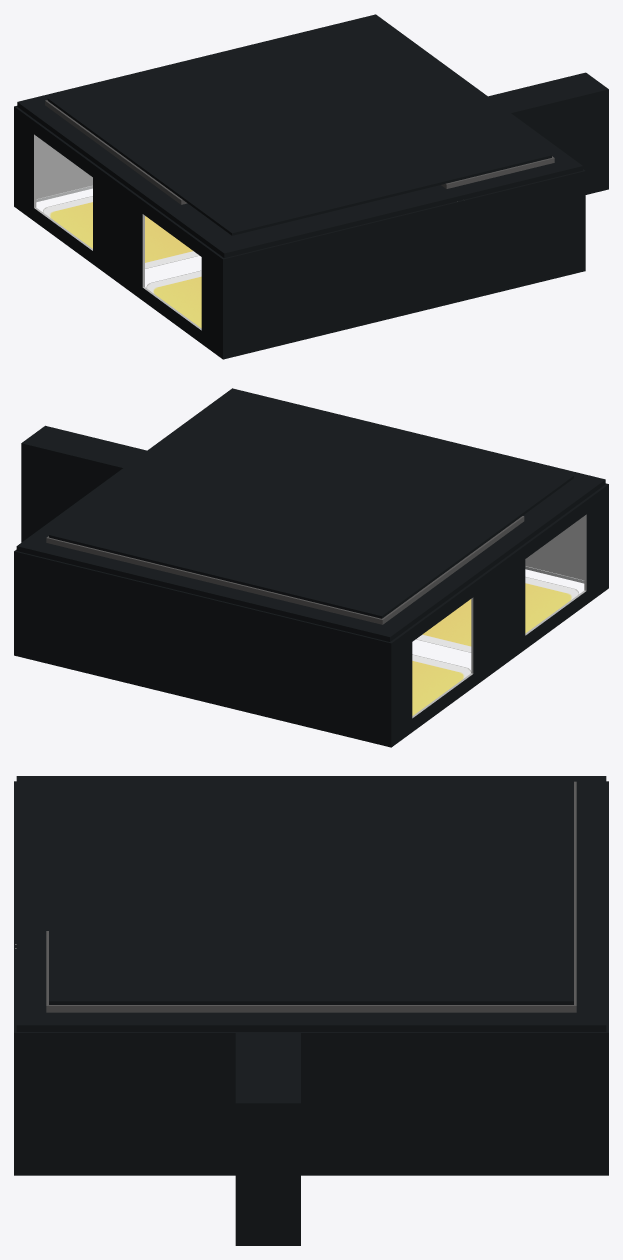
The model's file is M_livingroom01.FBX.
3 views of the same model, one above another, from view 1: azimuth 30°, elevation 25°; view 2: azimuth 150°, elevation 25°; view 3: azimuth 270°, elevation 25° (orthographic). The views are drawn at different scales.
Visible parts, largest first — view 1: M_framework01, M_floor01, M_livingroomwall01; view 2: M_framework01, M_floor01, M_cantingwall01, M_livingroomwall01; view 3: M_framework01.
Part boxes in pixels (left/top/right/bottom): M_framework01: left=14, top=14, right=608, bottom=359; M_floor01: left=43, top=196, right=201, bottom=328; M_livingroomwall01: left=34, top=134, right=457, bottom=330; M_framework01: left=14, top=388, right=608, bottom=747; M_floor01: left=412, top=577, right=578, bottom=715; M_cantingwall01: left=525, top=516, right=584, bottom=580; M_livingroomwall01: left=412, top=514, right=586, bottom=718; M_framework01: left=14, top=776, right=608, bottom=1245.
Size of the model in its own units: 19.39 by 4.48 by 15.14.
